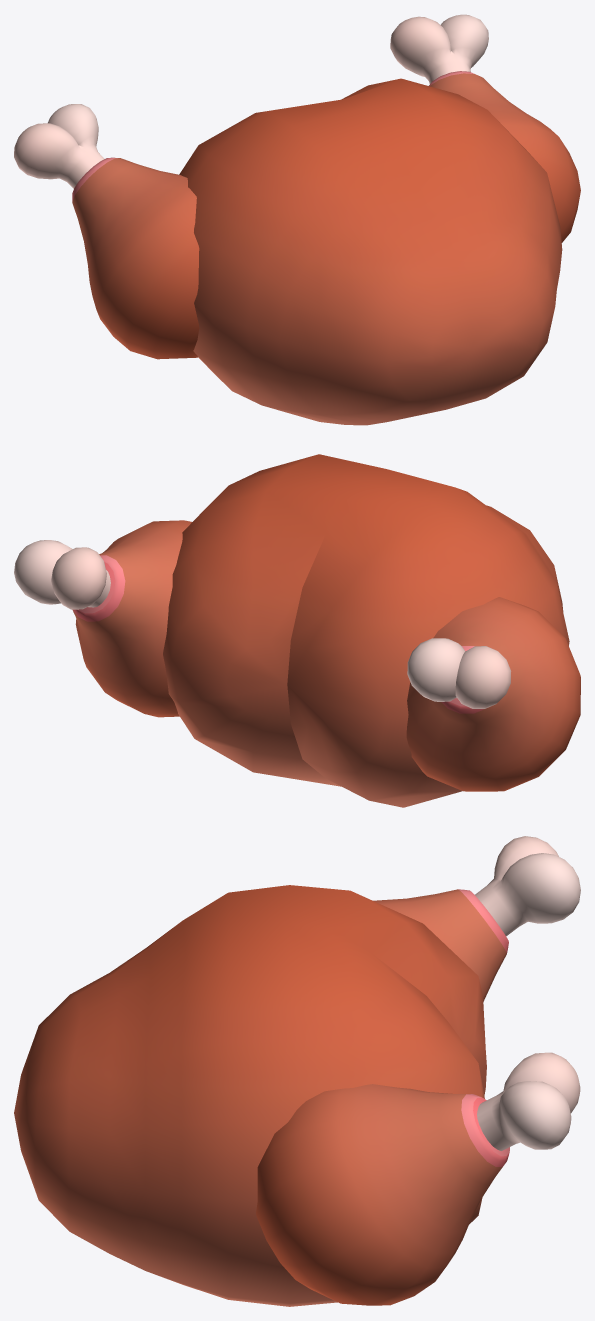
Rendered from Roasted_Chicken_V1_00.fbx.
The picture shows the model from 3 angles, top to bottom: view 1: azimuth 30°, elevation 25°; view 2: azimuth 150°, elevation 25°; view 3: azimuth 270°, elevation 25°; orthographic projection. The views are drawn at different scales.
Parts seen in each view (by area): view 1: Roasted_Chicken_V1_00; view 2: Roasted_Chicken_V1_00; view 3: Roasted_Chicken_V1_00.
Part boxes in pixels (box(x1,y1,x2,y2)): Roasted_Chicken_V1_00: box(14, 14, 580, 425); Roasted_Chicken_V1_00: box(14, 454, 580, 807); Roasted_Chicken_V1_00: box(14, 836, 580, 1306).
Size of the model in its own units: 83.48 by 47.52 by 70.61.
